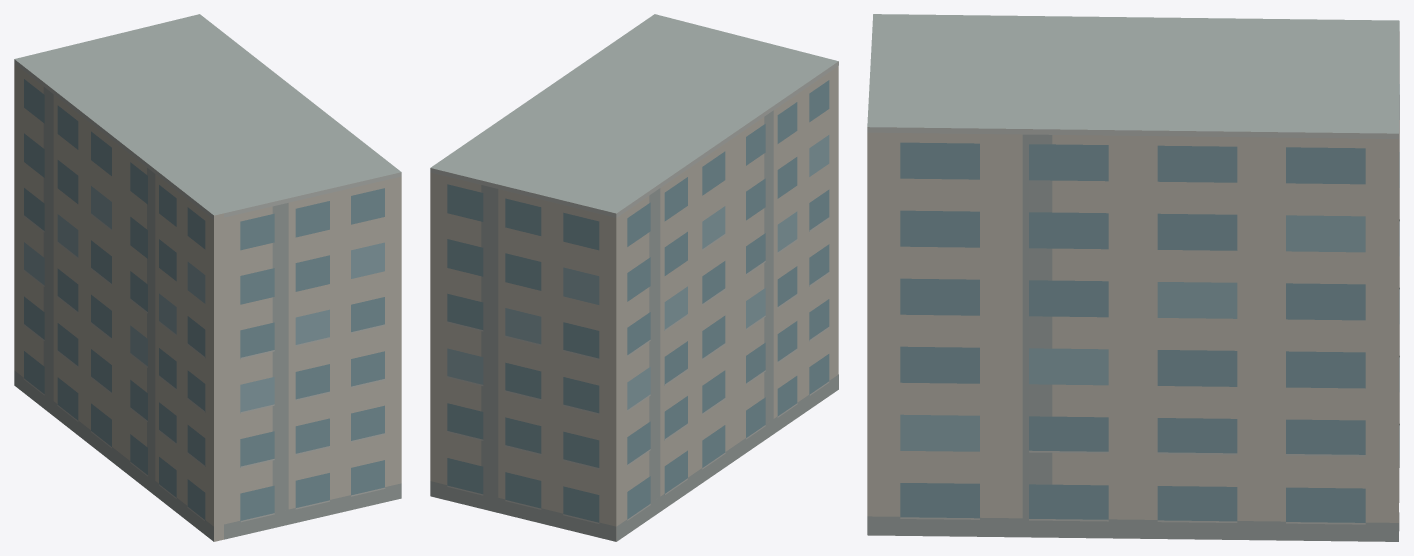
File: survey-upis-32773377.glb
The picture shows the model from 3 angles, left to right: view 1: azimuth 30°, elevation 25°; view 2: azimuth 150°, elevation 25°; view 3: azimuth 270°, elevation 25°; orthographic projection. The views are drawn at different scales.
Visible parts, largest first — view 1: survey-upis-32773377.tmp; view 2: survey-upis-32773377.tmp; view 3: survey-upis-32773377.tmp.
Part boxes in pixels (bbox=[...]): survey-upis-32773377.tmp: bbox=[14, 14, 401, 541]; survey-upis-32773377.tmp: bbox=[430, 14, 838, 541]; survey-upis-32773377.tmp: bbox=[867, 14, 1399, 541].
Bounding box in the file's own units: 11.38 × 18.1 × 21.4.
